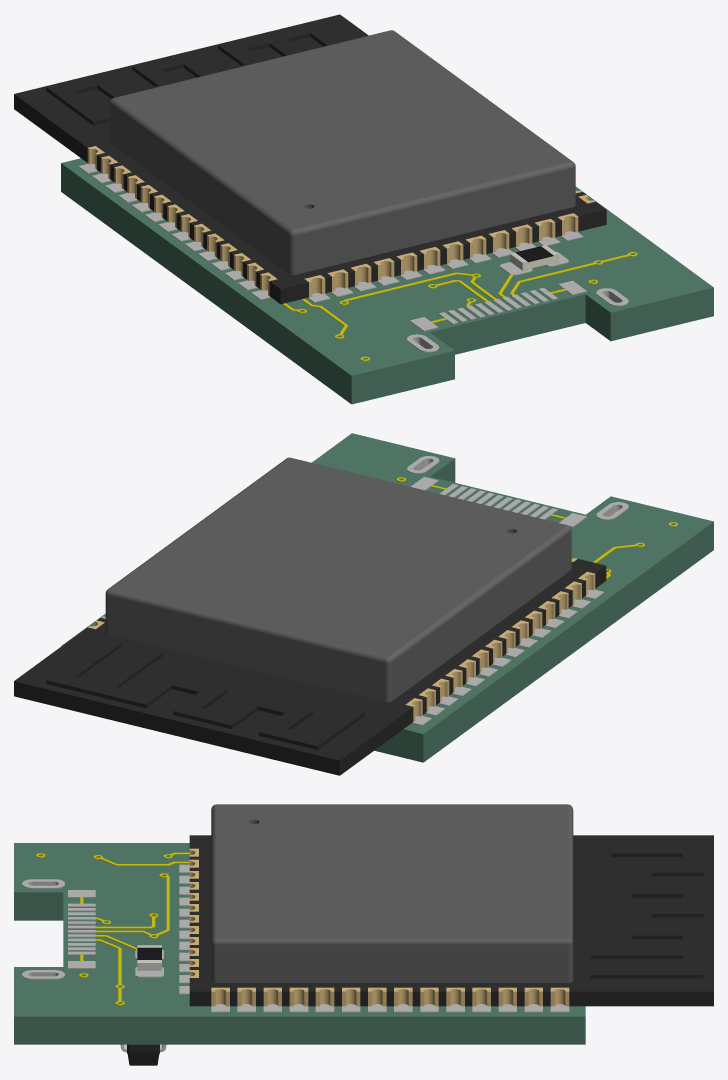
The model's file is ToothPaste_V1_USB_C.glb.
3 renders of one model, top to bottom at view 1: azimuth 30°, elevation 25°; view 2: azimuth 150°, elevation 25°; view 3: azimuth 270°, elevation 25°, orthographic.
Visible parts, largest first — view 1: U1, =>[0:1:1:11], =>[0:1:1:9], =>[0:1:1:8], R1; view 2: U1, =>[0:1:1:11], =>[0:1:1:9]; view 3: U1, =>[0:1:1:11], =>[0:1:1:9], =>[0:1:1:8], U2, R1.
Part boxes in pixels (x1,y1,x2,y2): U1: (14,14,606,304); =>[0:1:1:11]: (61,158,713,404); =>[0:1:1:9]: (78,163,628,352); =>[0:1:1:8]: (282,252,637,361); R1: (510,245,558,270); U1: (14,457,606,775); =>[0:1:1:11]: (61,433,713,762); =>[0:1:1:9]: (407,456,628,725); U1: (189,804,713,1006); =>[0:1:1:11]: (14,843,585,1044); =>[0:1:1:9]: (22,864,569,1012); =>[0:1:1:8]: (36,852,189,1005); U2: (120,1044,166,1065); R1: (137,945,161,970).
Bounding box in the file's own units: 0.02 × 0.00633 × 0.034.
